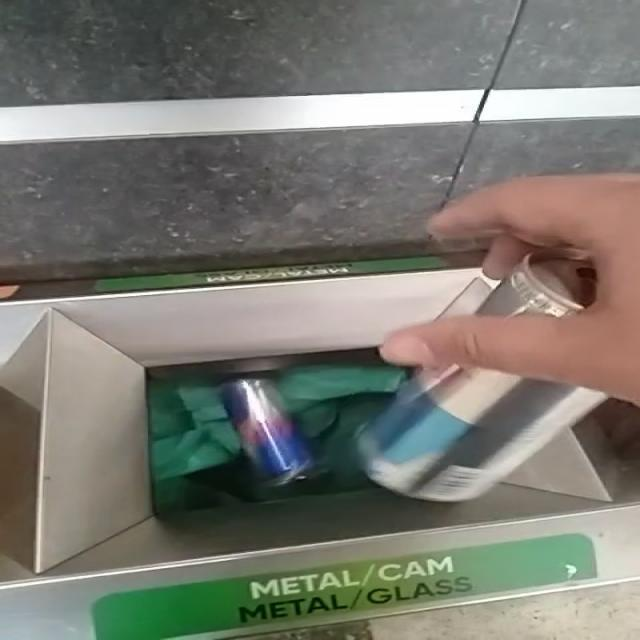Metal: (360, 366, 607, 503), (440, 249, 597, 320), (225, 380, 299, 485)
